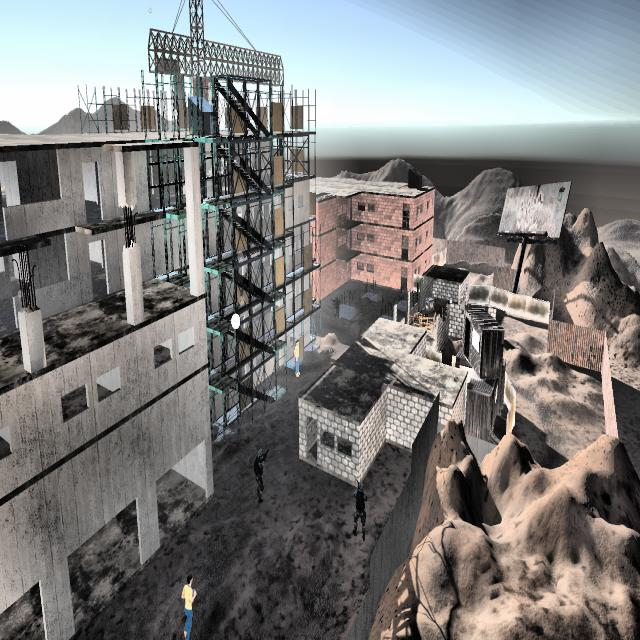bad: (349, 471, 372, 550), (252, 447, 270, 504), (331, 289, 344, 325)
good: (177, 572, 198, 640), (289, 333, 303, 381)
